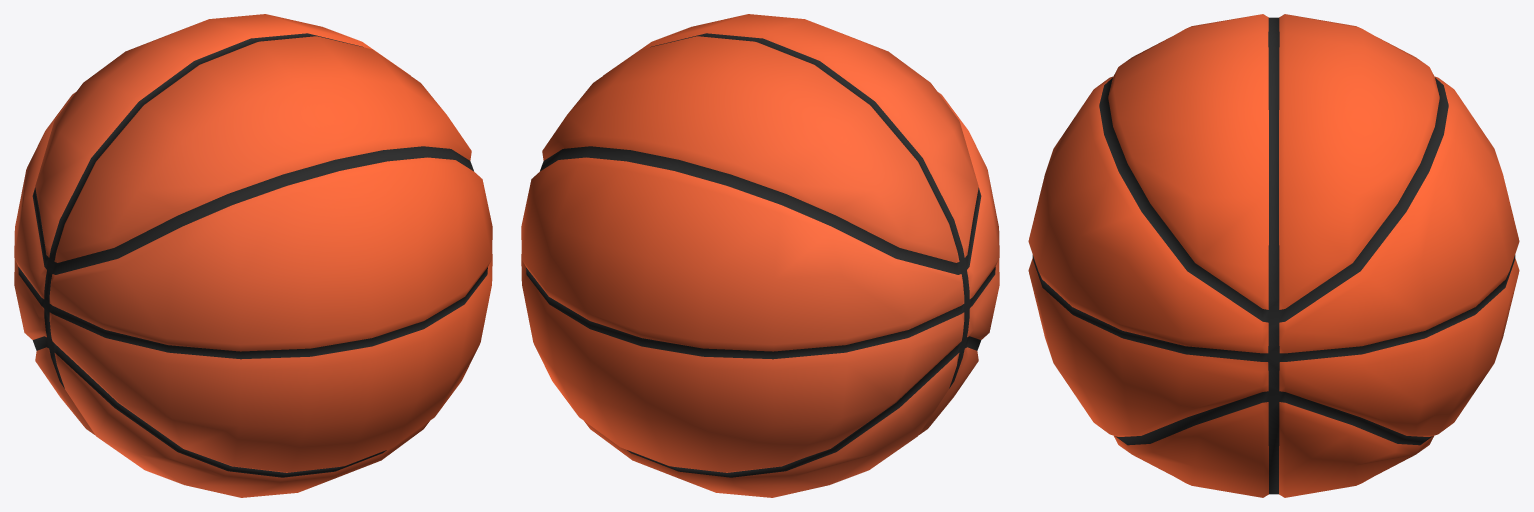
Rendered from PP_Ball1.fbx.
3 renders of one model, left to right at view 1: azimuth 30°, elevation 25°; view 2: azimuth 150°, elevation 25°; view 3: azimuth 270°, elevation 25°, orthographic.
Visible parts, largest first — view 1: ball_1; view 2: ball_1; view 3: ball_1.
Boxes of the visible parts, box(x1,y1,x2,y2) form: ball_1: box(14, 14, 492, 497); ball_1: box(521, 14, 999, 497); ball_1: box(1028, 14, 1519, 497).
Bounding box in the file's own units: 22.82 × 22.81 × 22.86.
